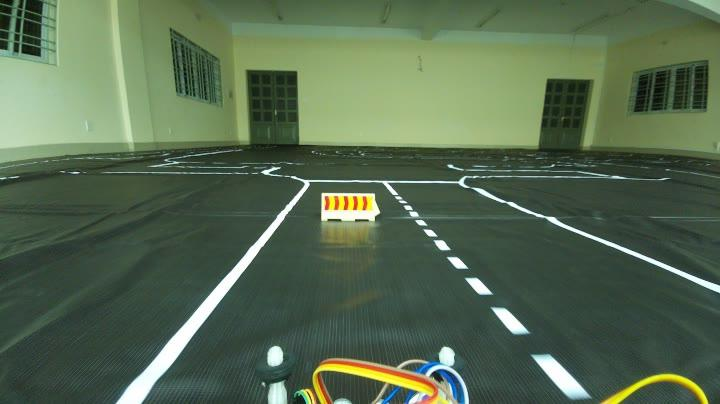roadblock: (316, 184, 386, 230)
